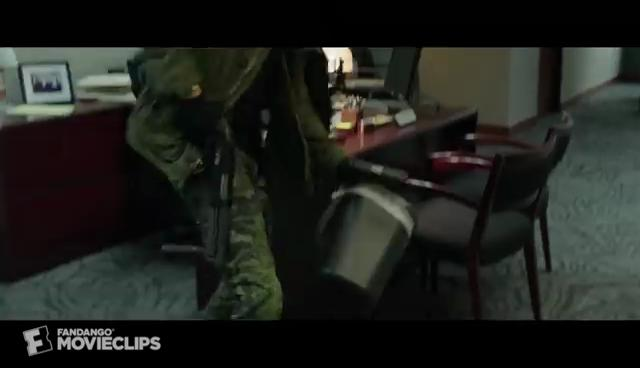criminal: (125, 47, 363, 320)
weapon: (159, 108, 238, 311)
